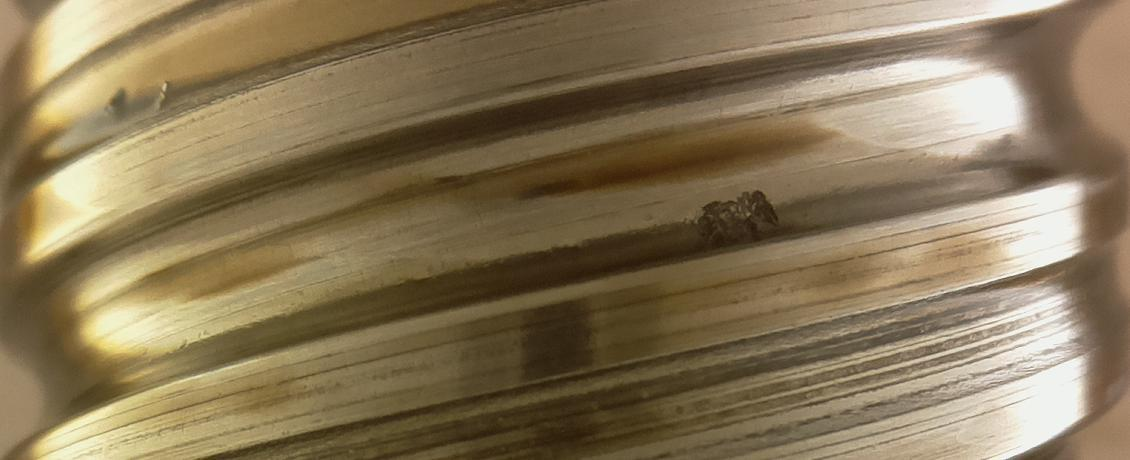pitting: (697, 191, 777, 248)
